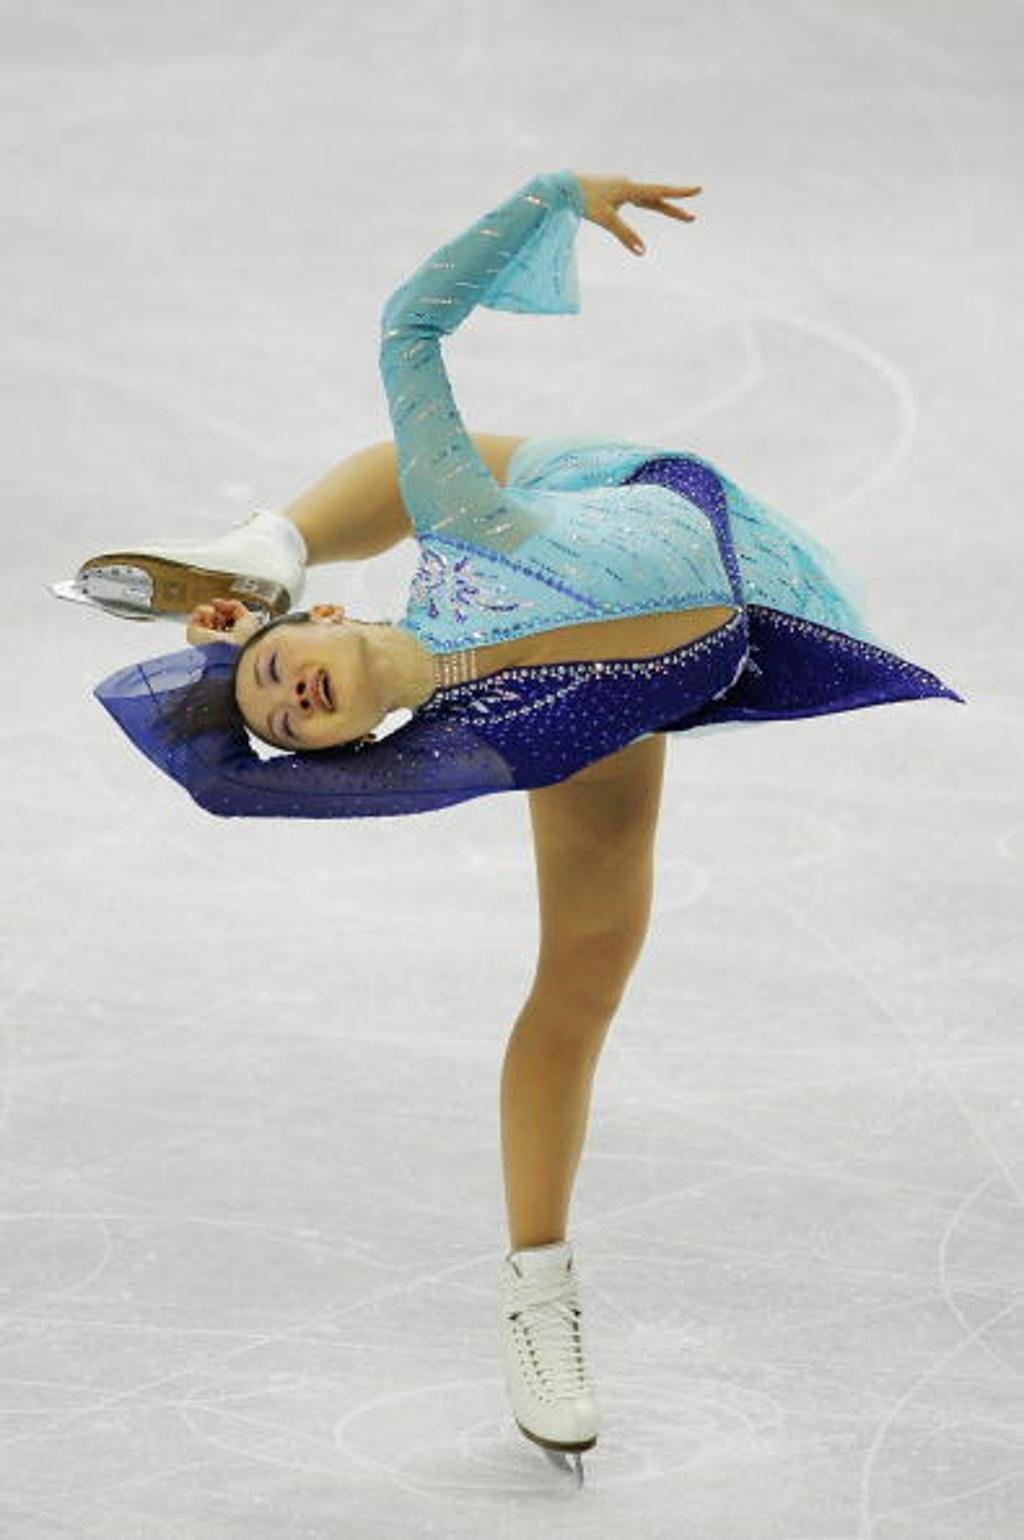face: (232, 623, 371, 749)
